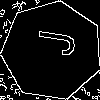J: (26, 26, 76, 58)
